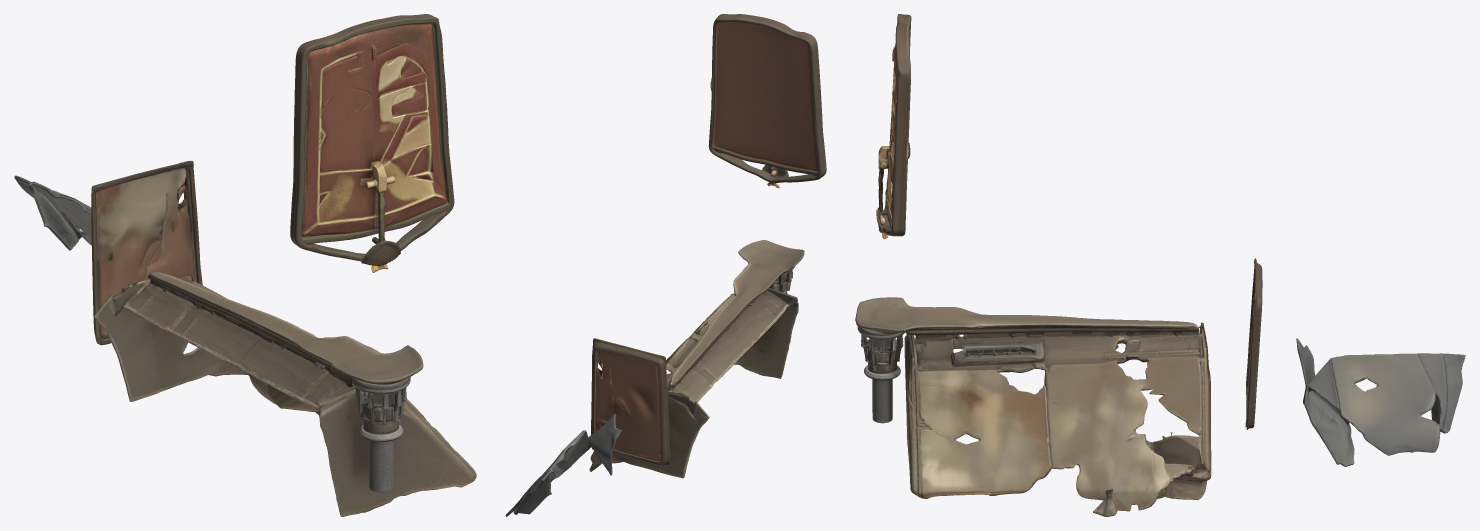
The model's file is shopfront_row.glb.
3 views of the same model, side by side, from view 1: azimuth 30°, elevation 25°; view 2: azimuth 150°, elevation 25°; view 3: azimuth 270°, elevation 25° (orthographic). The views are drawn at different scales.
Visible parts, largest first — view 1: tripo_node_a3c7abfa-d1a6-4d05-b6be-ee31c8190a34; view 2: tripo_node_a3c7abfa-d1a6-4d05-b6be-ee31c8190a34; view 3: tripo_node_a3c7abfa-d1a6-4d05-b6be-ee31c8190a34.
Part boxes in pixels (box(x1,y1,x2,y2)): tripo_node_a3c7abfa-d1a6-4d05-b6be-ee31c8190a34: box(14, 14, 476, 516); tripo_node_a3c7abfa-d1a6-4d05-b6be-ee31c8190a34: box(505, 14, 826, 516); tripo_node_a3c7abfa-d1a6-4d05-b6be-ee31c8190a34: box(855, 14, 1465, 516).
Bounding box in the file's own units: 0.3395 × 0.778 × 0.9801.
Materials: 1 (1 with a texture image).
